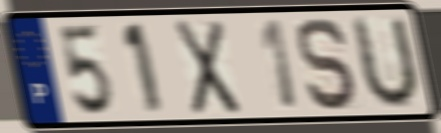1: (121, 21, 166, 117), (259, 16, 298, 114)
5: (55, 22, 115, 118)
S: (295, 15, 362, 113)
U: (350, 13, 422, 113)
X: (171, 17, 243, 119)
